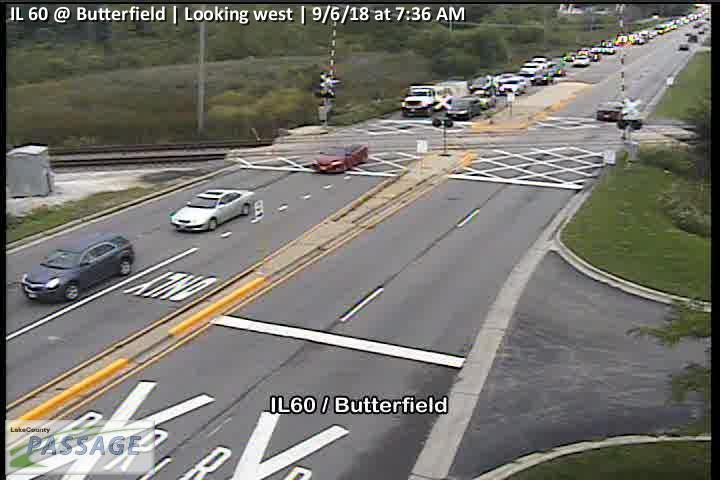SUV: (448, 94, 481, 120)
Sedan: (22, 234, 136, 302), (169, 188, 255, 233), (313, 143, 368, 174)
Truck: (401, 84, 451, 118)
